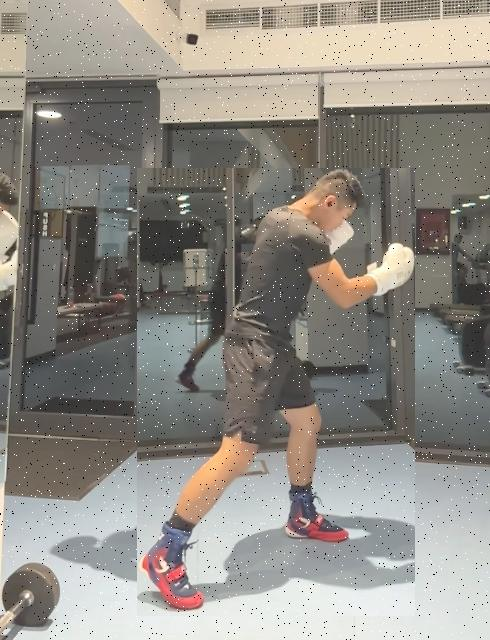punch: (137, 168, 415, 616)
